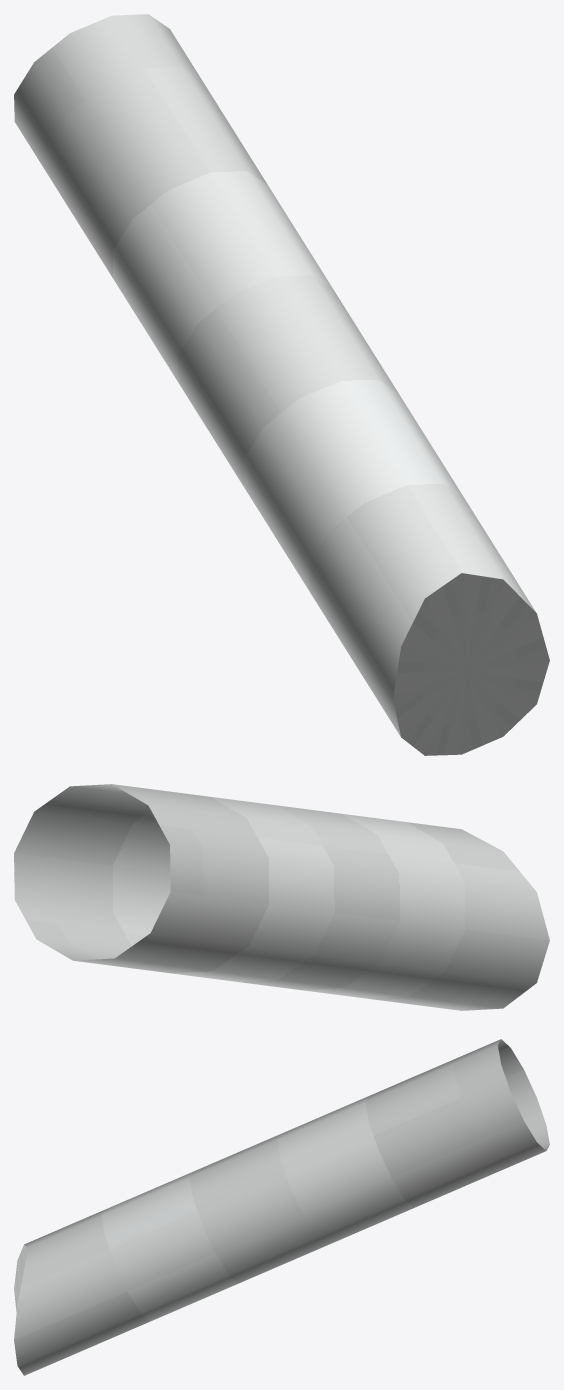
File: luminairearm_truss15ftstraightdouble_c1_pedestal.obj
3 views of the same model, one above another, from view 1: azimuth 30°, elevation 25°; view 2: azimuth 150°, elevation 25°; view 3: azimuth 270°, elevation 25° (orthographic). The views are drawn at different scales.
Visible parts, largest first — view 1: luminairearm_truss15ftstraightdouble_c1_pedestal; view 2: luminairearm_truss15ftstraightdouble_c1_pedestal; view 3: luminairearm_truss15ftstraightdouble_c1_pedestal.
Part boxes in pixels (x1,y1,x2,y2): luminairearm_truss15ftstraightdouble_c1_pedestal: (14,14,549,755); luminairearm_truss15ftstraightdouble_c1_pedestal: (14,784,549,1010); luminairearm_truss15ftstraightdouble_c1_pedestal: (14,1039,549,1375).
Size of the model in its own units: 0.1562 by 0.4598 by 0.688.
